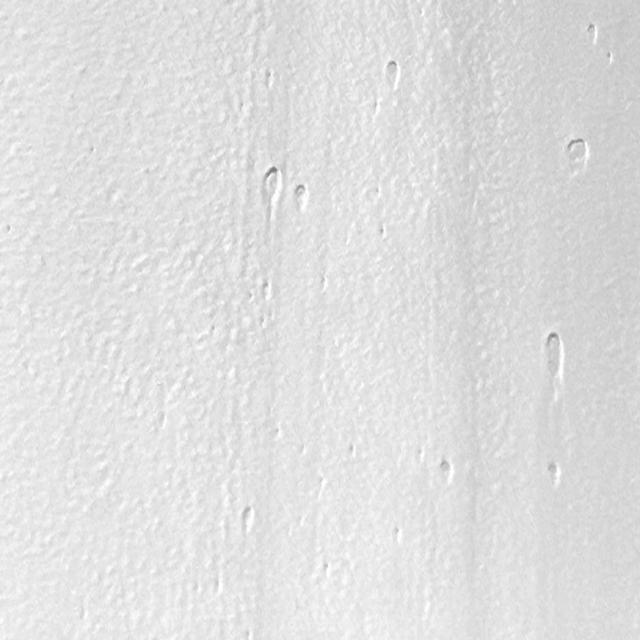pin holes: (536, 331, 568, 389), (256, 164, 284, 218), (561, 136, 591, 176), (290, 180, 312, 213), (545, 458, 566, 488), (436, 456, 456, 486), (383, 60, 403, 89), (238, 506, 258, 535), (584, 22, 601, 46), (258, 280, 274, 302), (270, 422, 286, 444), (393, 525, 406, 547), (414, 443, 427, 465), (318, 562, 332, 582), (264, 70, 276, 91), (345, 442, 359, 460), (375, 224, 389, 242), (2, 221, 14, 238), (257, 312, 268, 330), (605, 50, 616, 67), (315, 474, 326, 490), (242, 626, 254, 639)
